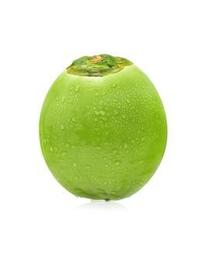coconut: (38, 55, 169, 201)
